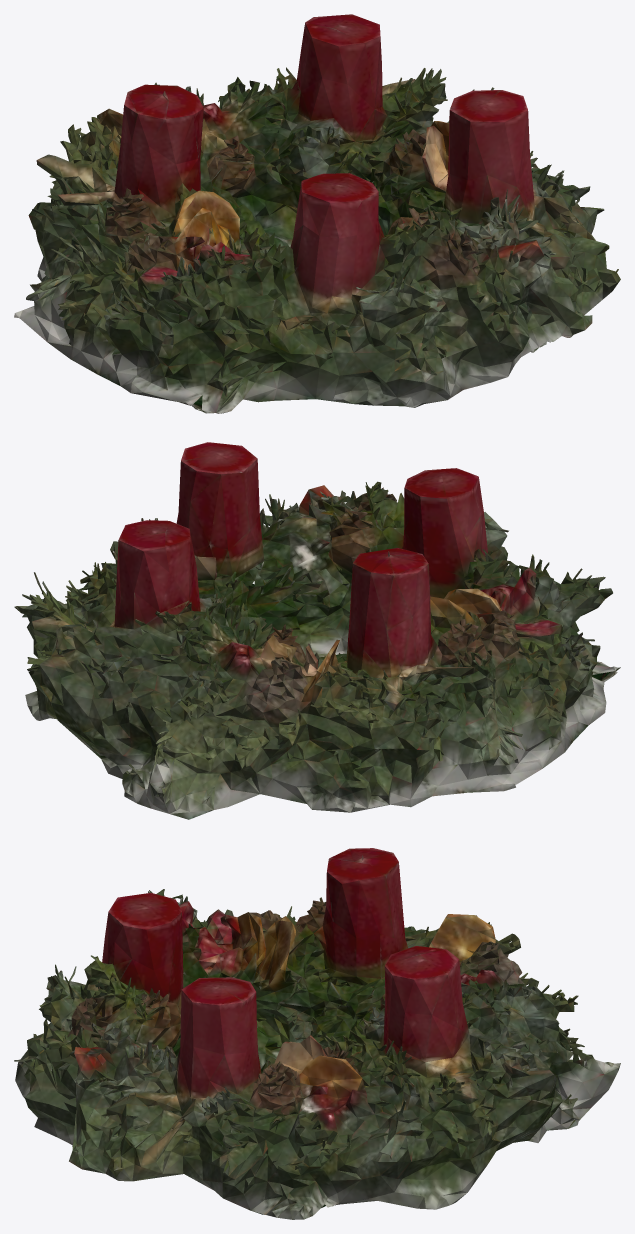
3 renders of one model, top to bottom at view 1: azimuth 30°, elevation 25°; view 2: azimuth 150°, elevation 25°; view 3: azimuth 270°, elevation 25°, orthographic. The views are drawn at different scales.
Parts seen in each view (by area): view 1: Adventskranz_Wei_20k_1k; view 2: Adventskranz_Wei_20k_1k; view 3: Adventskranz_Wei_20k_1k.
Part boxes in pixels (left/top/right/bottom): Adventskranz_Wei_20k_1k: left=14, top=14, right=620, bottom=413; Adventskranz_Wei_20k_1k: left=14, top=442, right=620, bottom=819; Adventskranz_Wei_20k_1k: left=14, top=848, right=620, bottom=1219.
Size of the model in its own units: 0.3929 by 0.1573 by 0.4266.
1 material, 1 textured.
